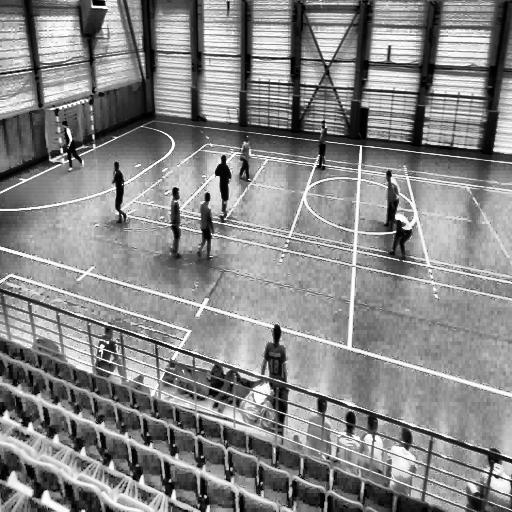player: (388, 207, 413, 266), (60, 119, 83, 172), (197, 190, 214, 261), (214, 154, 231, 222), (169, 186, 183, 260), (112, 160, 127, 225), (384, 171, 399, 230), (238, 134, 252, 182), (317, 119, 329, 170)
